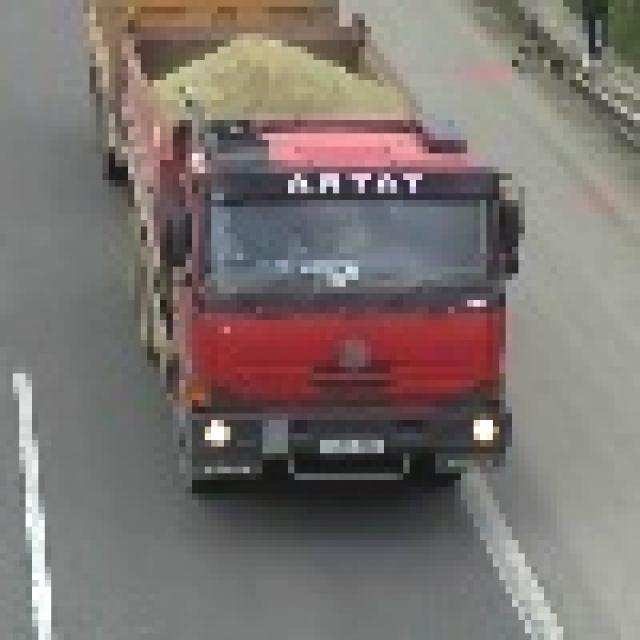truck: (78, 1, 519, 501)
